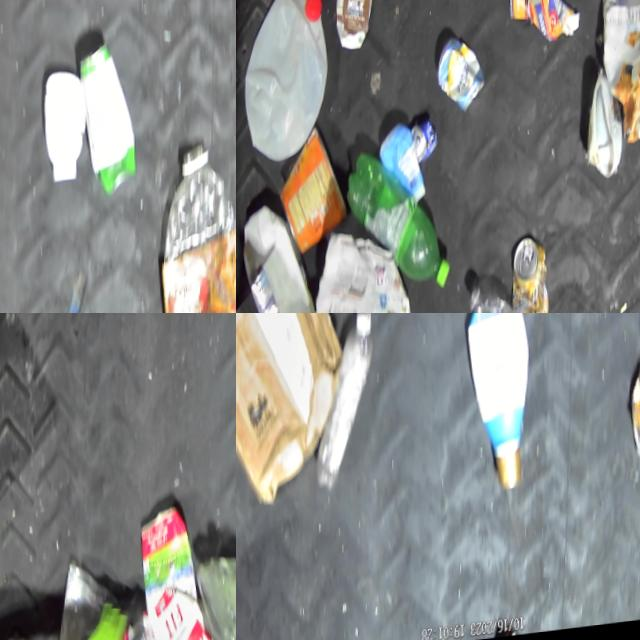can: (279, 122, 352, 259), (436, 38, 489, 120), (412, 120, 441, 167), (629, 372, 640, 472)
milk_jug: (240, 0, 335, 166), (240, 198, 330, 313), (585, 75, 628, 187), (333, 0, 380, 55)
non_white_jug: (459, 313, 536, 502), (137, 501, 229, 640)
plastic_bottle: (158, 143, 236, 313), (312, 313, 383, 498), (468, 282, 554, 313)
